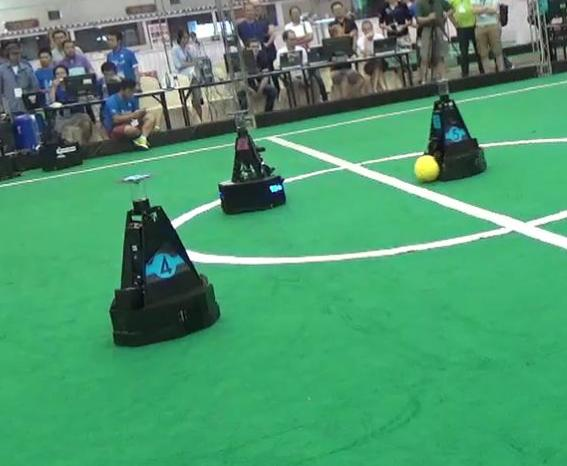robot: (103, 174, 225, 348), (214, 111, 291, 216), (423, 69, 490, 182)
